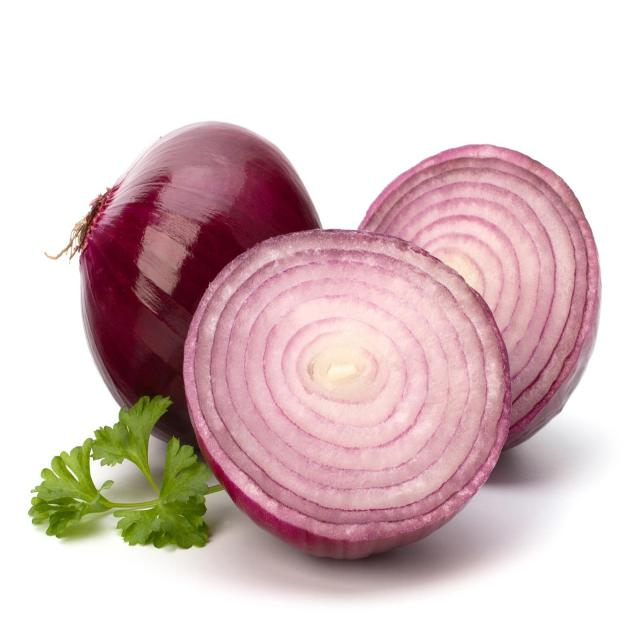onion: (165, 221, 515, 559), (61, 121, 323, 407)
